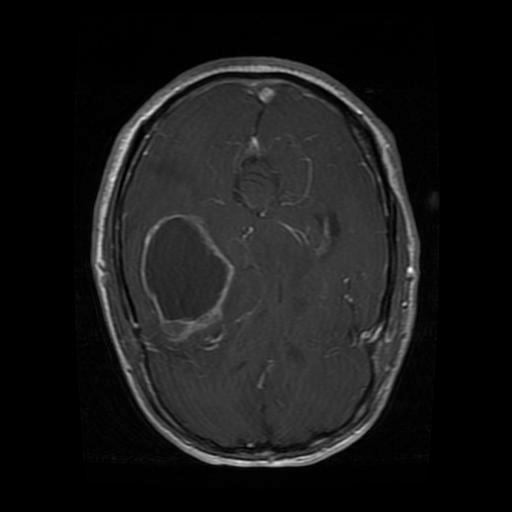Tumour-Glioma: (122, 198, 251, 357)
